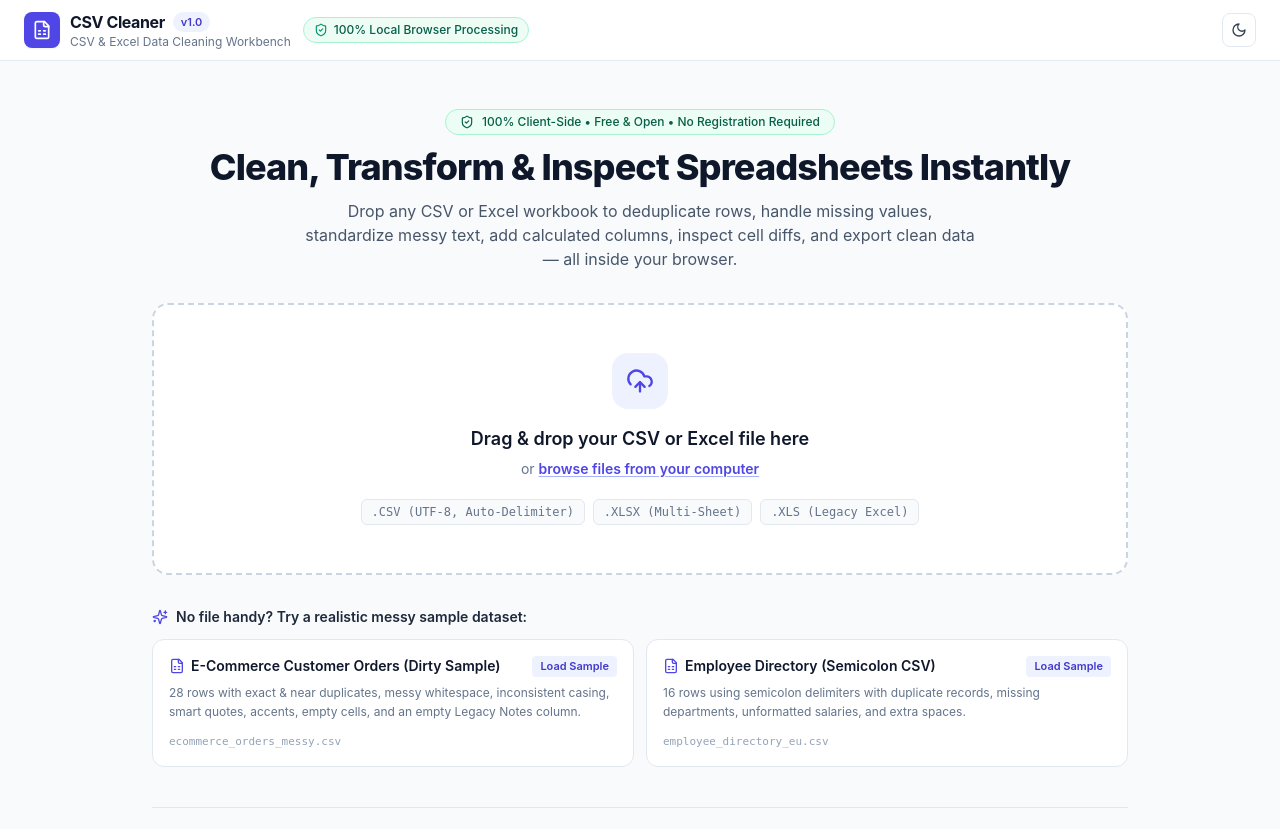
Test case: CSV Cleaner Application Integration › renders landing view with privacy guarantee, loads sample dataset, cleans duplicates, and supports undo
expect the heading "Clean, Transform & Inspect Spreadsheets Instantly" is shown: met, box [152,147,1128,187]
Note: Load the first sample dataset
Click the text "E-Commerce Customer Orders (Dirty Sample)".
click(335, 666)  # box [169,656,500,676]
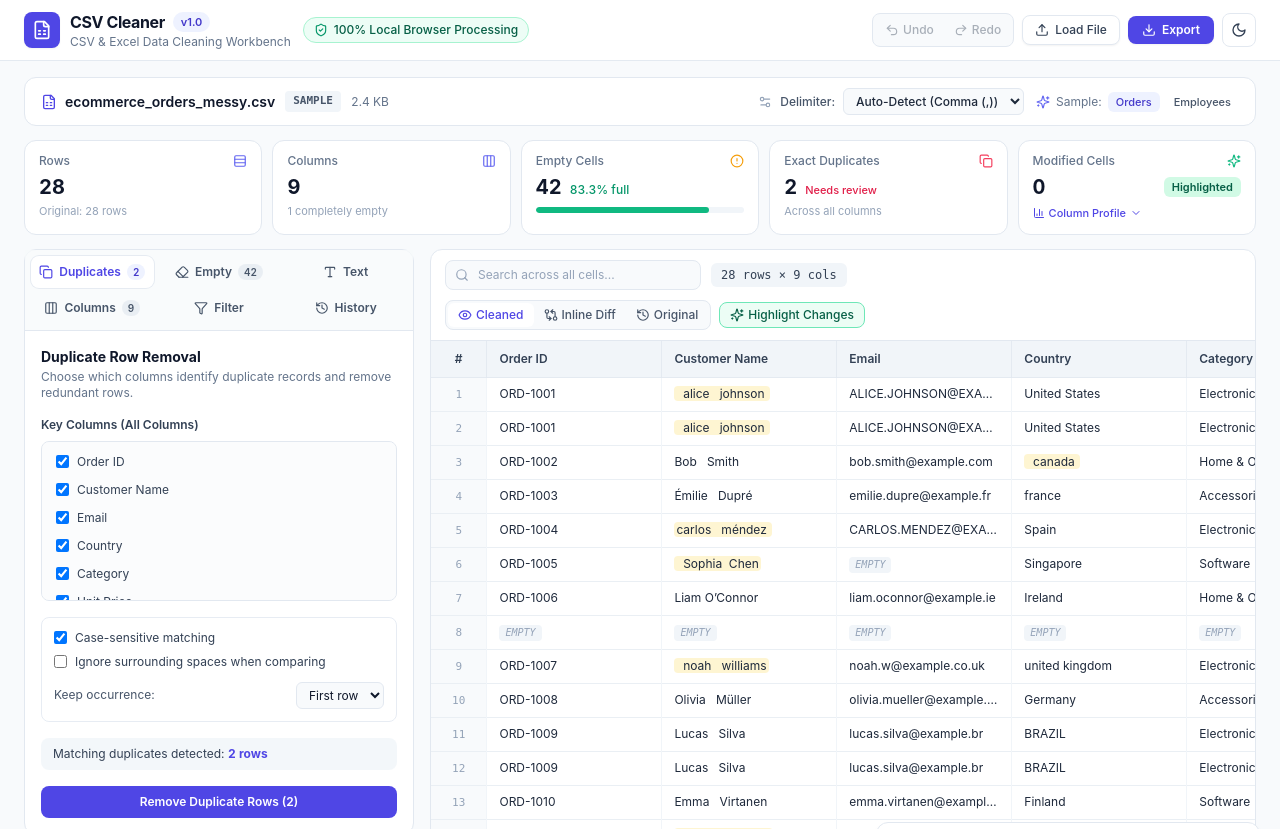
expect the text "ecommerce_orders_messy.csv" is shown: met, box [65,92,275,112]
expect the text "28 rows × 9 cols" is shown: met, box [711,262,847,286]
Click the button "Remove Duplicate Rows (2)".
click(219, 802)  # box [41,786,397,818]
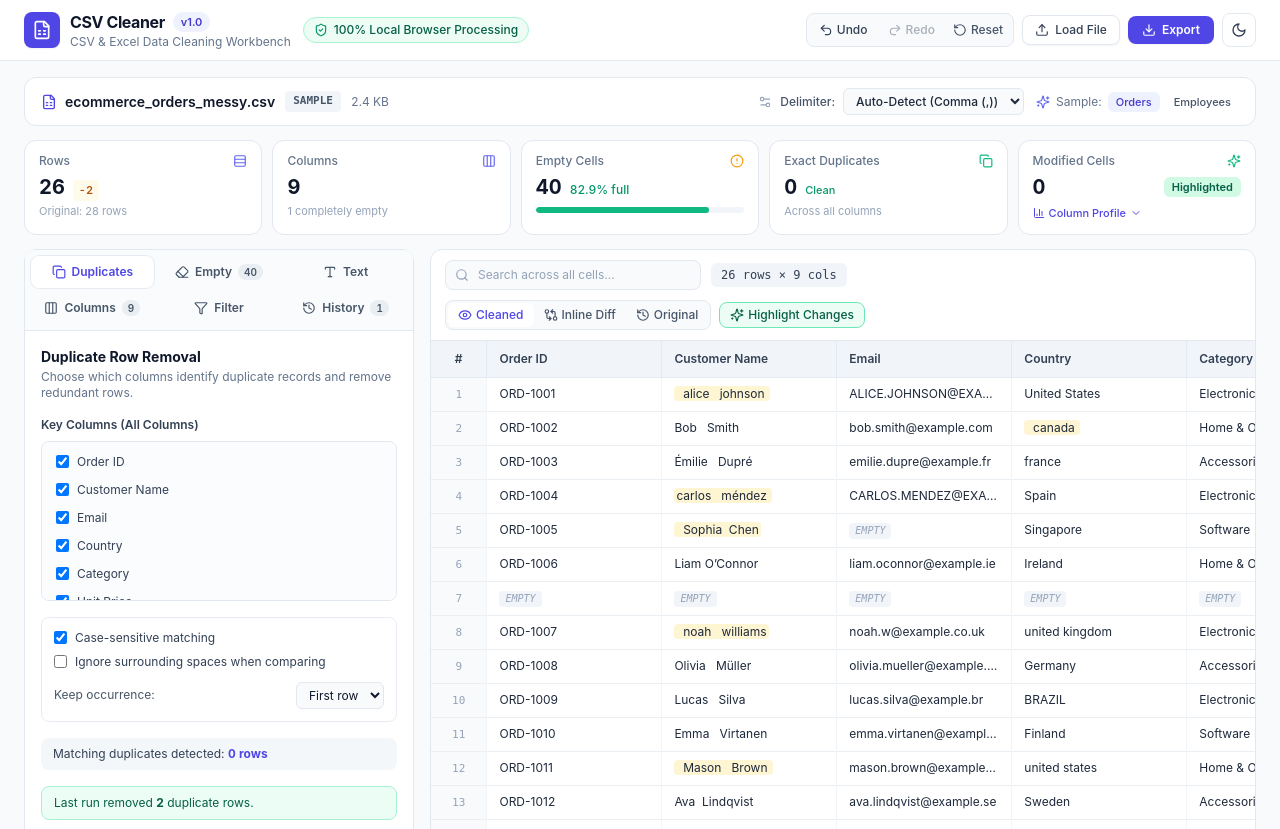
expect the text "26 rows × 9 cols" is shown: met, box [711,262,847,286]
Click the button titled "Undo last operation".
click(843, 30)  # box [809,16,878,44]
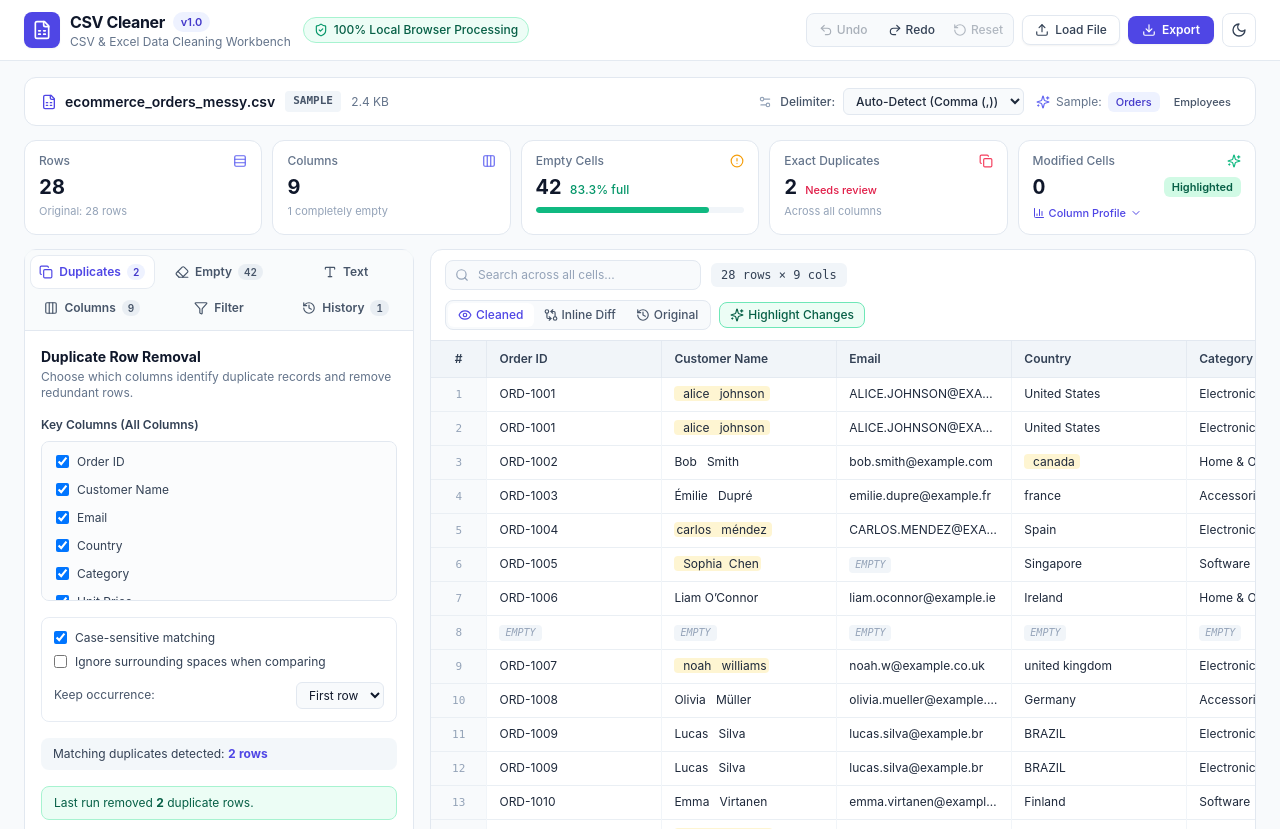
expect the text "28 rows × 9 cols" is shown: met, box [711,262,847,286]
Note: Open Export Modal and verify export summary shows row and column counts
Click the button "Export".
click(1171, 30)  # box [1128,16,1214,44]
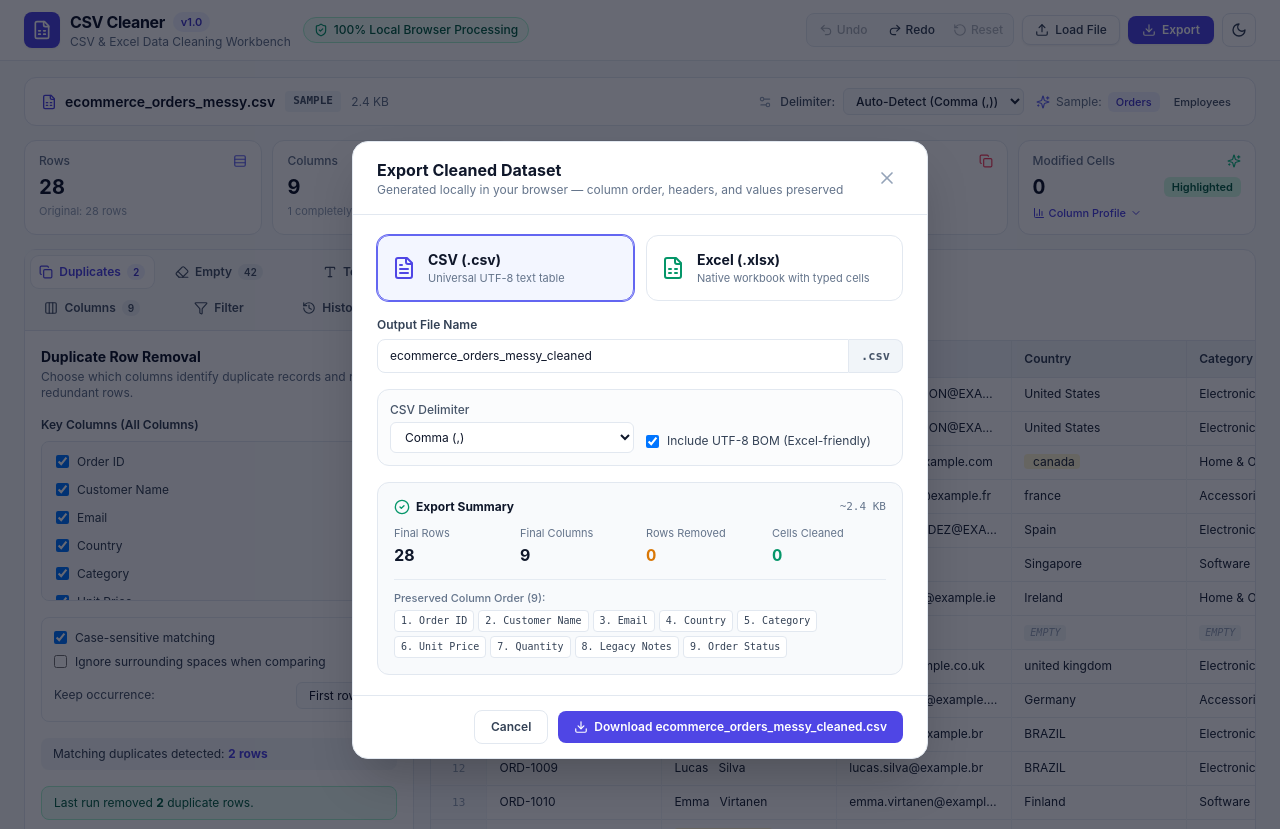
expect the heading "Export Cleaned Dataset" is shown: met, box [377,160,561,180]
expect the text "Export Summary" is shown: met, box [394,499,514,515]
